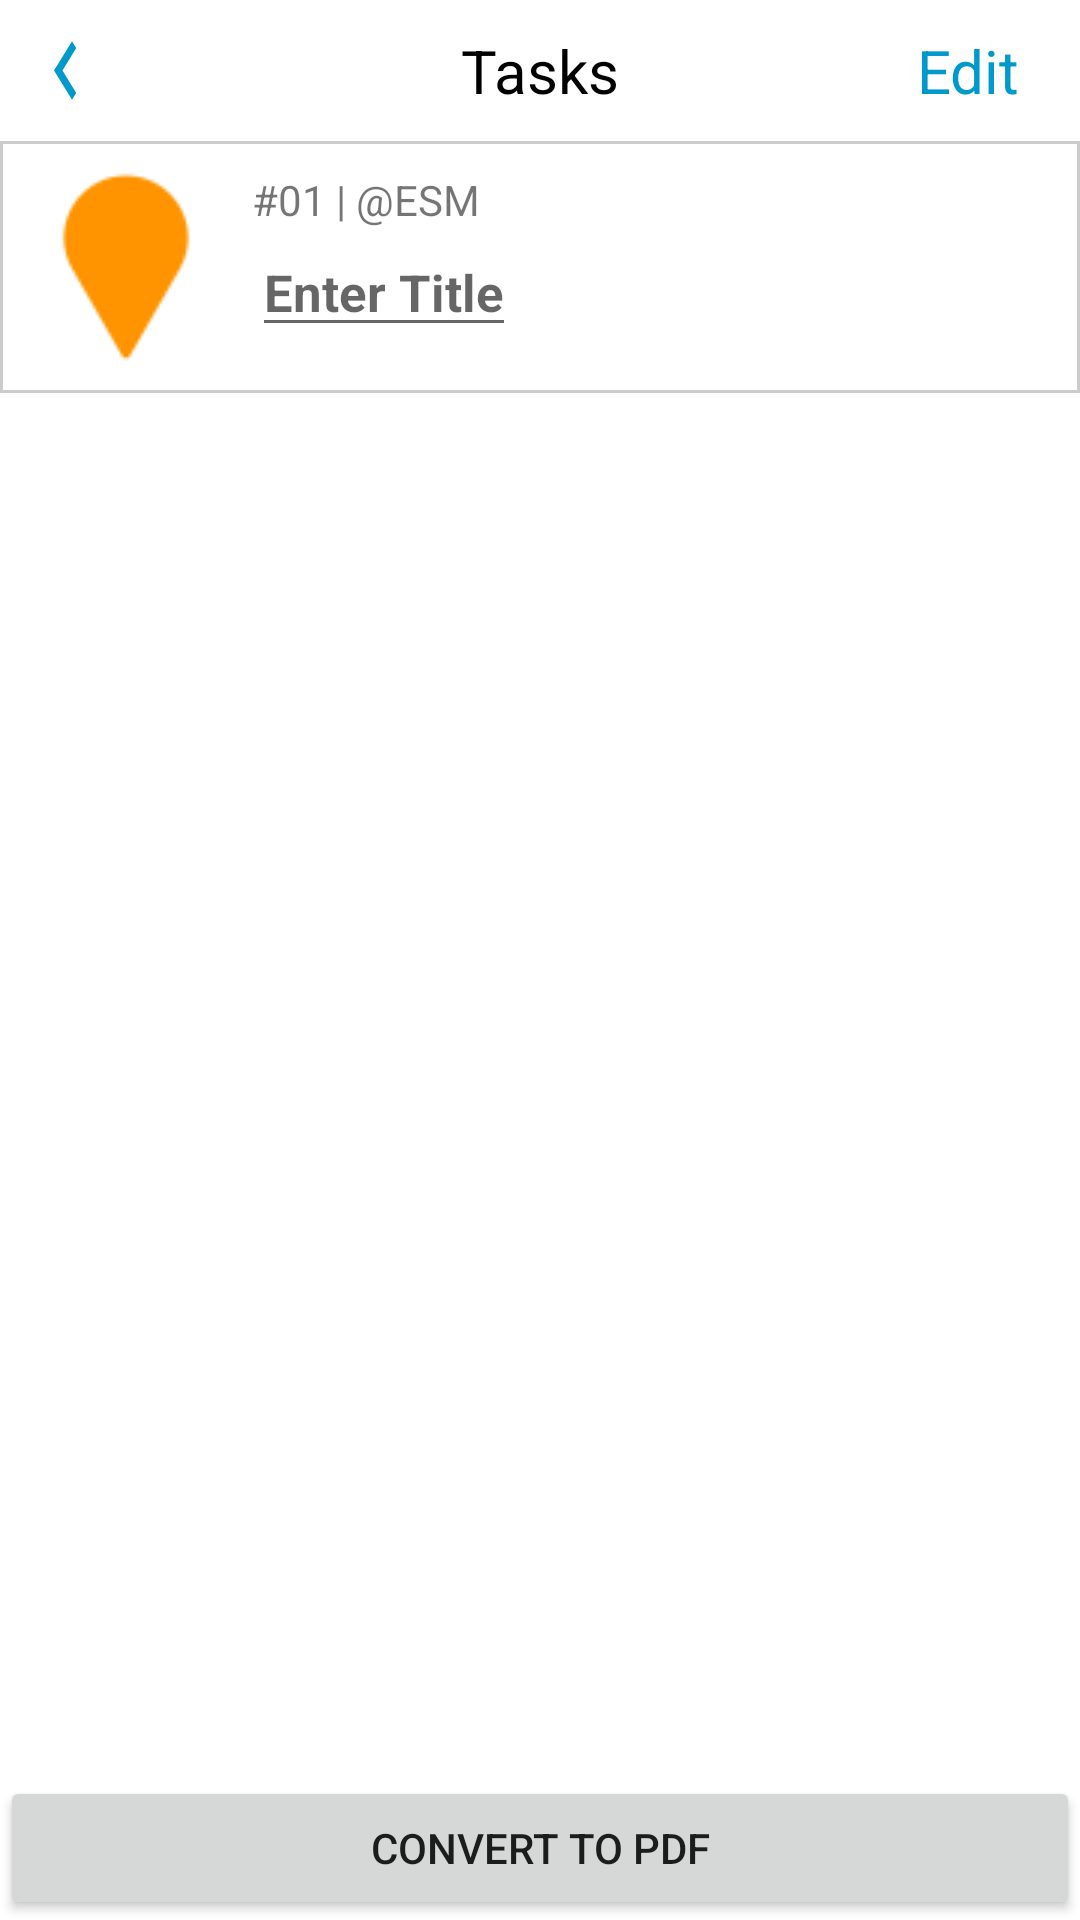

Icons on this 1080px×1920px Android screen, each with the point to tap as point (x, y):
back navigate: point (65, 70)
location pin: point (126, 266)
